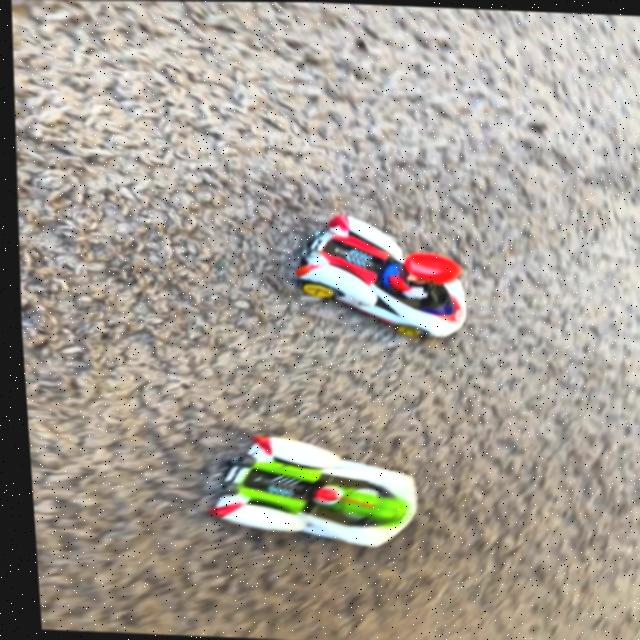mario: (273, 204, 483, 352)
yoshi: (179, 412, 434, 563)
